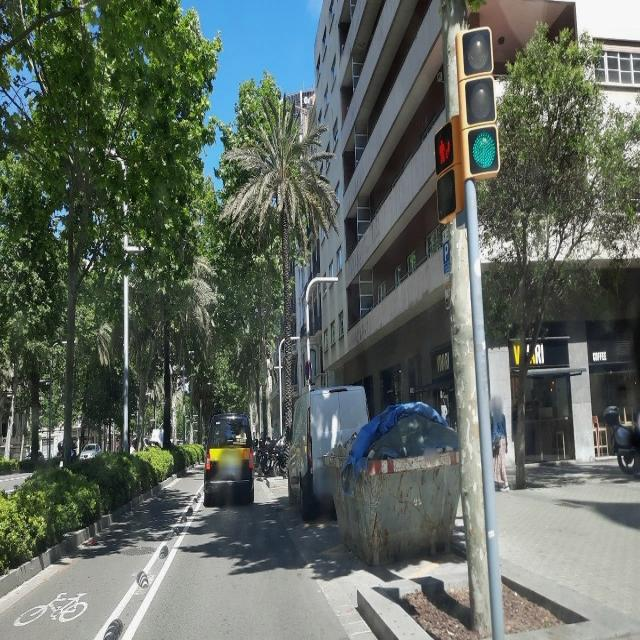car: (286, 382, 369, 518), (203, 410, 255, 506), (56, 440, 78, 462), (79, 442, 103, 461)
